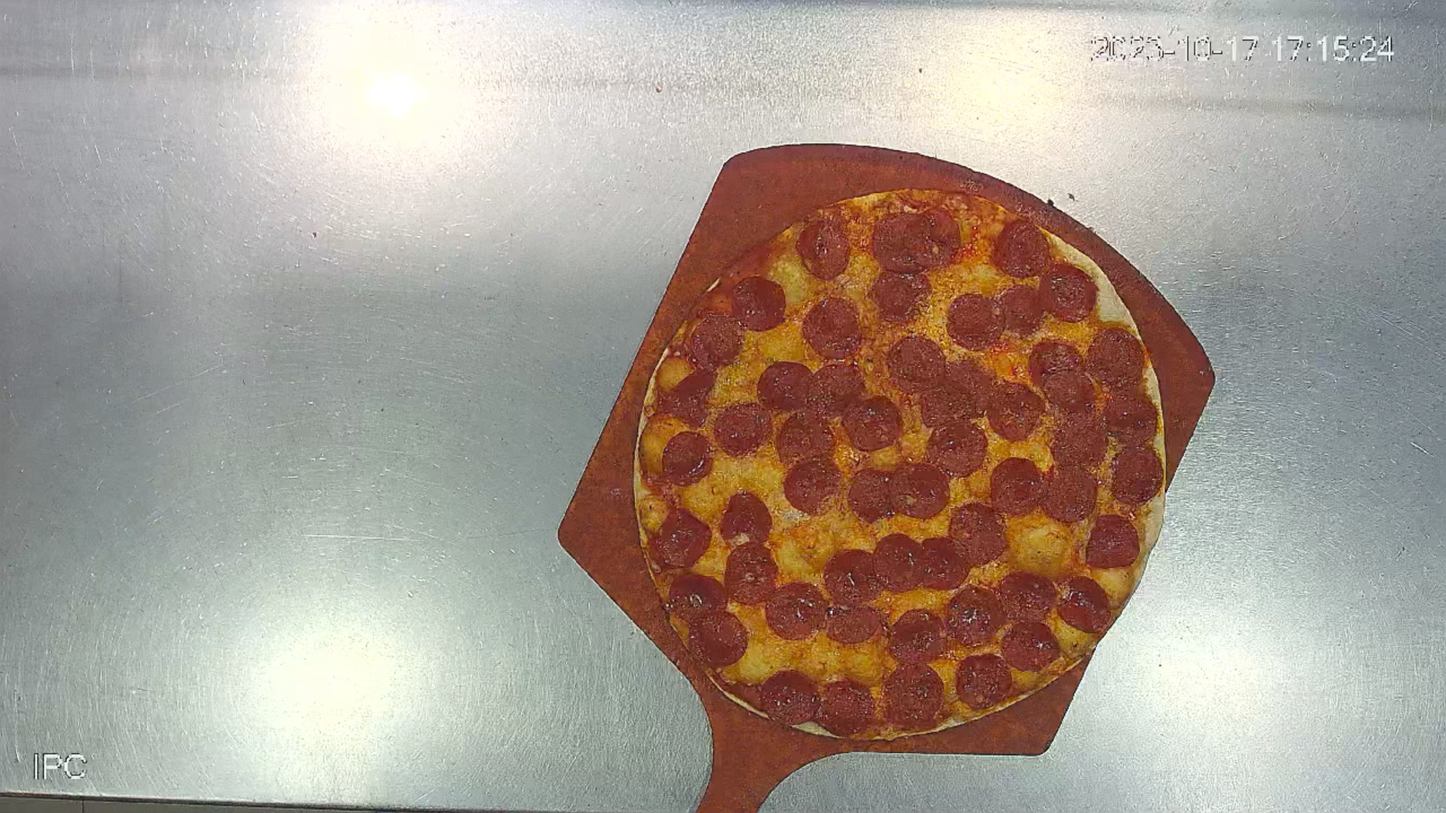pepperoni: (631, 186, 1172, 745)
